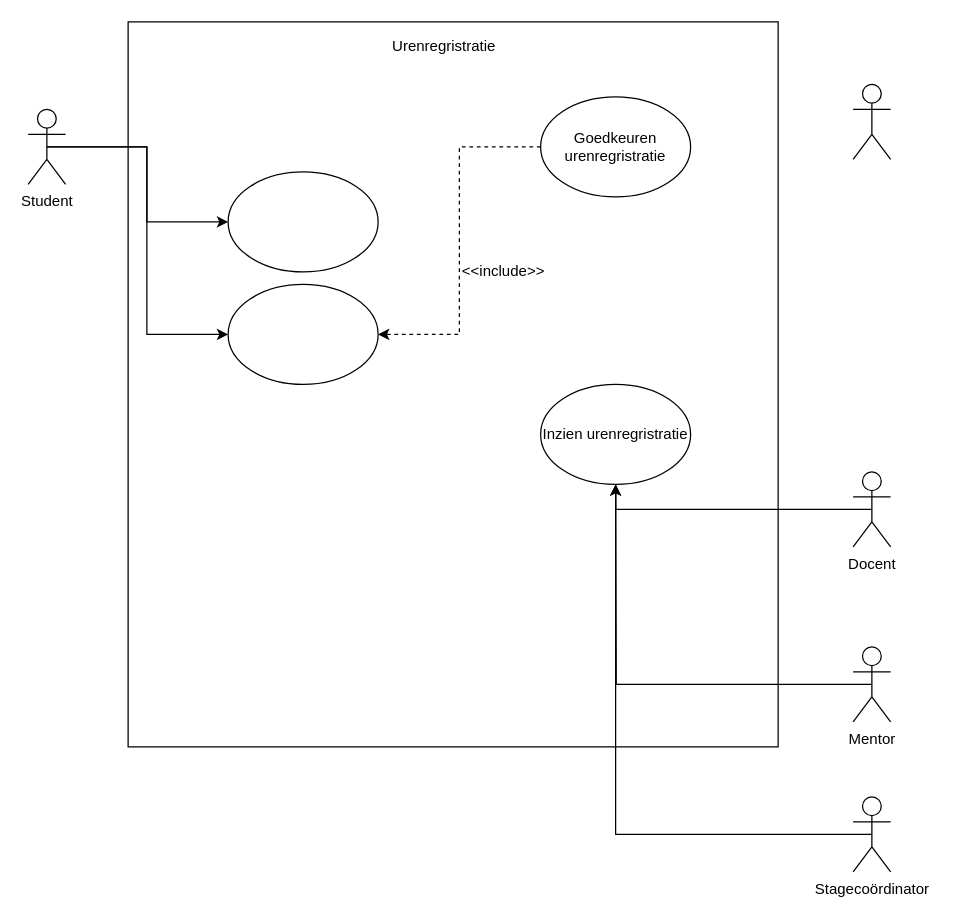
The diagram is 953 pixels wide and 920 high, and some of its shapes have lost their labels. Each missing label, with the box of its shape:
Inloggen: (227, 171, 378, 272)
Invullen urenregristratie: (227, 283, 378, 384)
Praktijkbegeleider: (852, 83, 891, 159)
